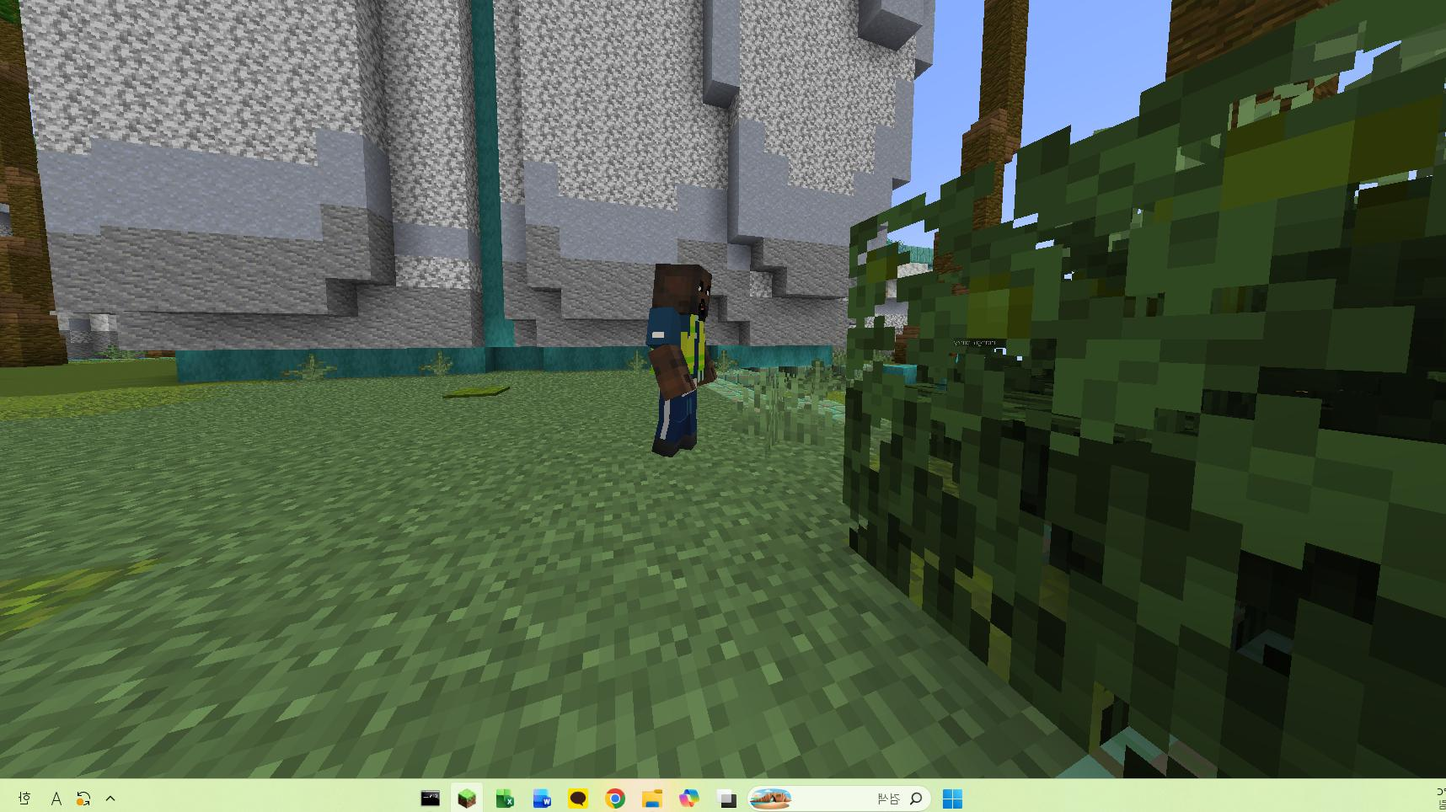Guardian: (646, 264, 717, 457)
